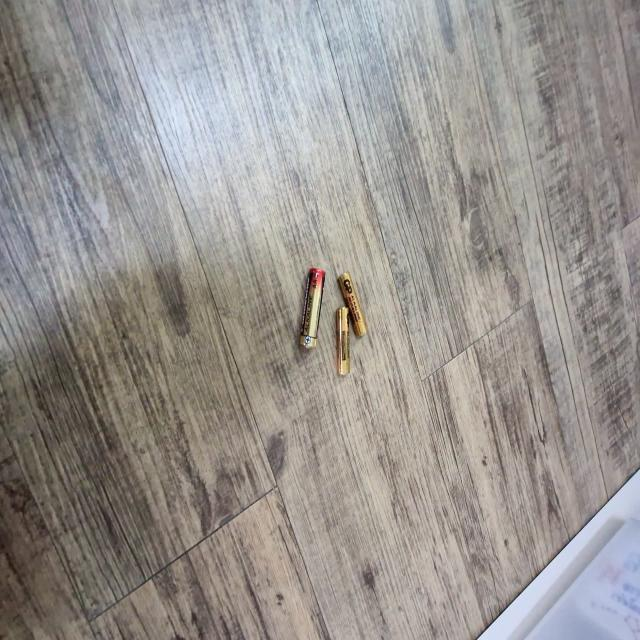battery: (298, 268, 326, 356), (339, 307, 349, 378)
